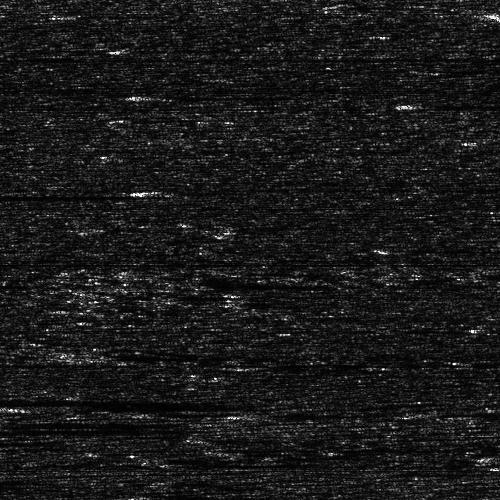object: (169, 277, 232, 290), (370, 101, 433, 108), (462, 450, 500, 461), (110, 189, 173, 194), (142, 93, 195, 98), (126, 493, 167, 498), (451, 325, 492, 330), (484, 462, 500, 467)
shadow: (200, 277, 331, 290), (0, 427, 161, 434), (0, 189, 83, 202), (0, 420, 142, 427), (0, 397, 177, 402), (402, 101, 500, 108), (147, 493, 281, 498), (168, 93, 300, 98), (0, 427, 38, 440), (0, 426, 81, 431), (142, 189, 206, 194), (0, 477, 23, 484), (472, 325, 500, 330)
